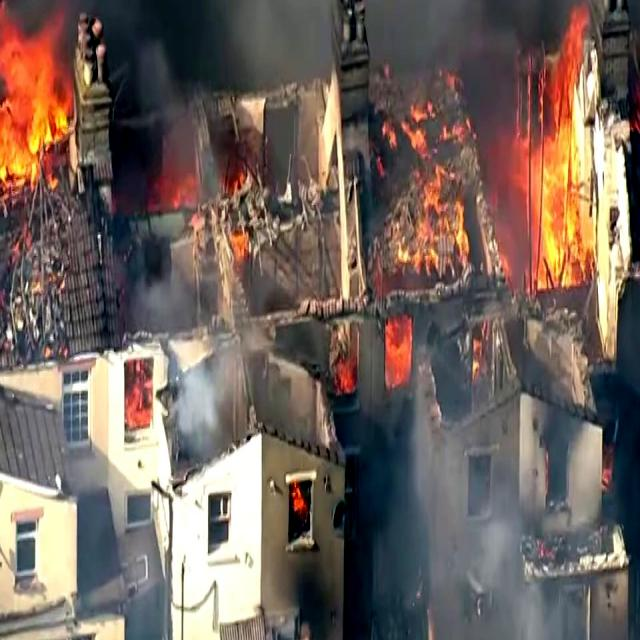fire: (509, 39, 590, 292), (0, 0, 80, 187)
